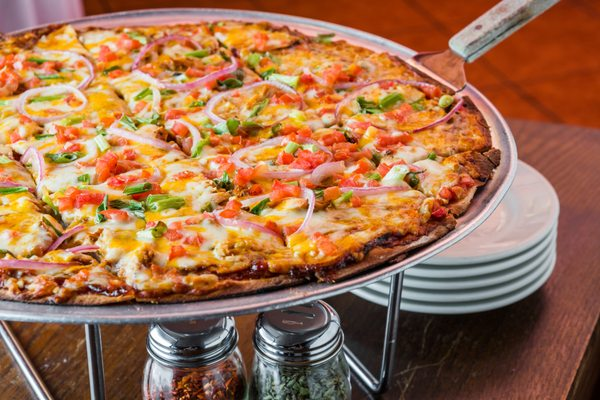burger: (252, 302, 351, 397), (142, 315, 248, 397)
curry: (16, 0, 600, 396)
sandwich: (0, 17, 500, 305)
